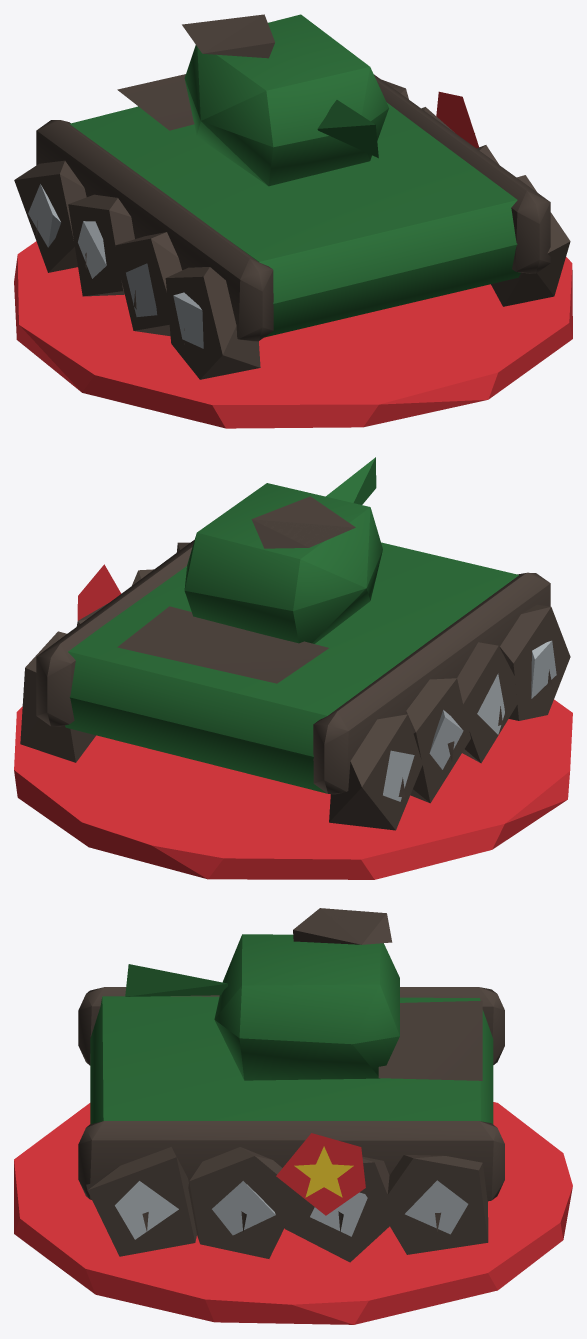
The model's file is vietnam_infantry_lod1.glb.
3 views of the same model, one above another, from view 1: azimuth 30°, elevation 25°; view 2: azimuth 150°, elevation 25°; view 3: azimuth 270°, elevation 25° (orthographic).
Visible parts, largest first — view 1: body_hull, base_pedestal; view 2: body_hull, base_pedestal; view 3: body_hull, base_pedestal.
Boxes of the visible parts, x1,y1,x2,y2 form: body_hull: (14,14,570,379); base_pedestal: (14,241,572,428); body_hull: (20,457,570,830); base_pedestal: (14,699,572,879); body_hull: (78,908,504,1262); base_pedestal: (14,1102,572,1324).
Size of the model in its own units: 0.7751 by 0.4117 by 0.7751.
